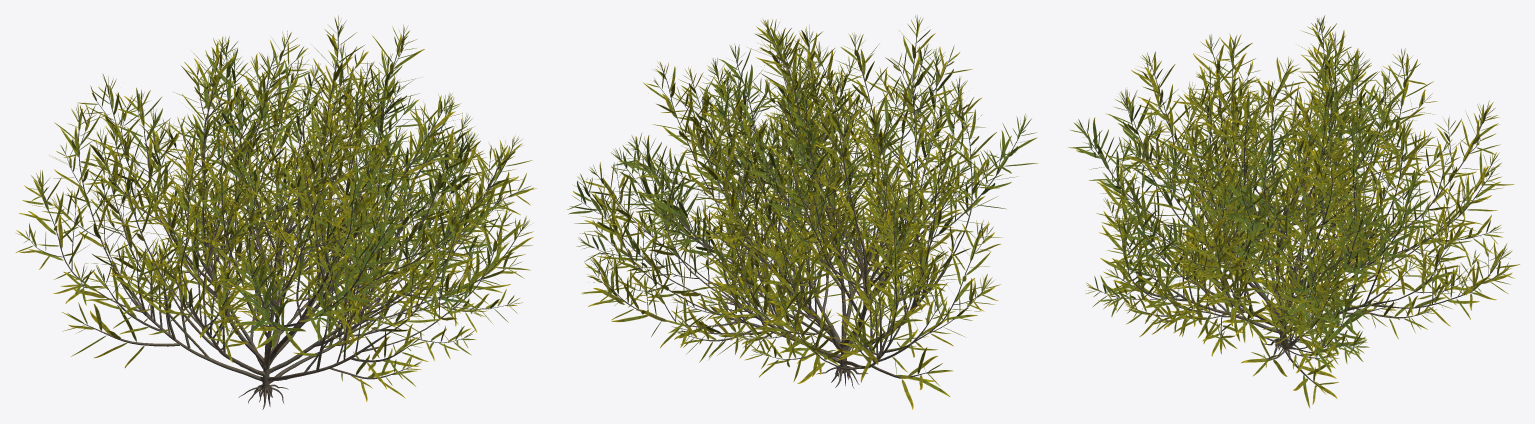
File: rosemary.glb
3 views of the same model, side by side, from view 1: azimuth 30°, elevation 25°; view 2: azimuth 150°, elevation 25°; view 3: azimuth 270°, elevation 25° (orthographic). The views are drawn at different scales.
Parts seen in each view (by area): view 1: Salix_elaeagnos_HD; view 2: Salix_elaeagnos_HD; view 3: Salix_elaeagnos_HD.
Boxes of the visible parts, left/top/right/bottom form: Salix_elaeagnos_HD: left=16, top=15, right=536, bottom=409; Salix_elaeagnos_HD: left=567, top=15, right=1038, bottom=409; Salix_elaeagnos_HD: left=1068, top=15, right=1519, bottom=408.
Bounding box in the file's own units: 1.18 × 0.8991 × 1.11.
Materials: 7 (7 with a texture image).
